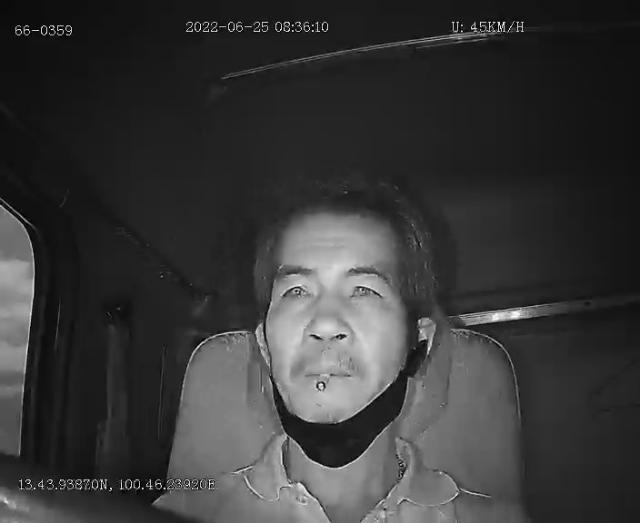SafeDriving: (340, 270, 390, 306), (276, 270, 320, 306)
Smoking: (315, 372, 331, 394)
